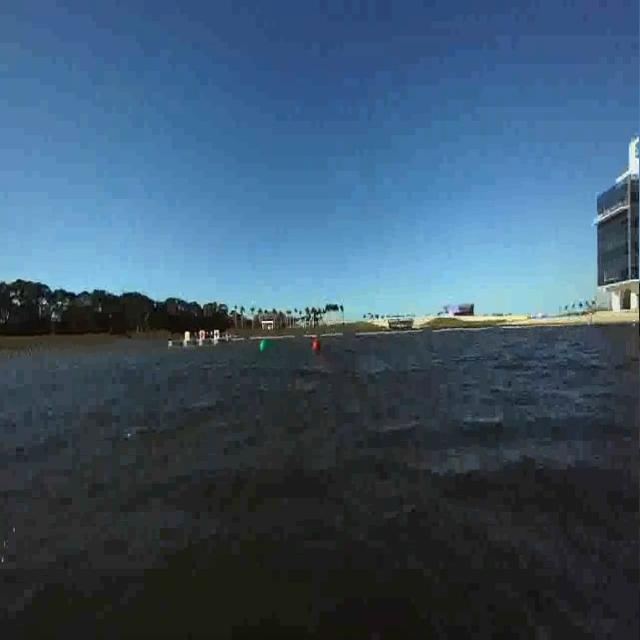green-buoy: (258, 332, 276, 356)
red-buoy: (305, 333, 324, 362)
